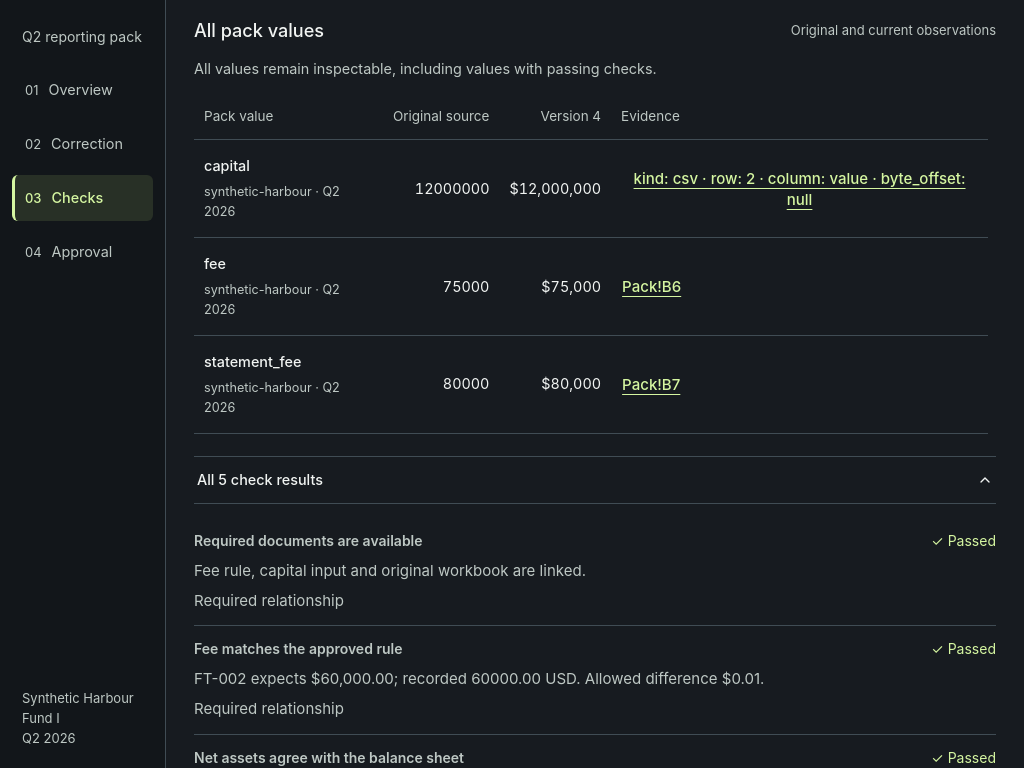
Test case: keeps exact occurrence content and citation together across evidence links and fact selection (anchor=true)
(page scrolled)
Click the button "Pack!B7" at (651, 385), box [621, 362, 681, 408]
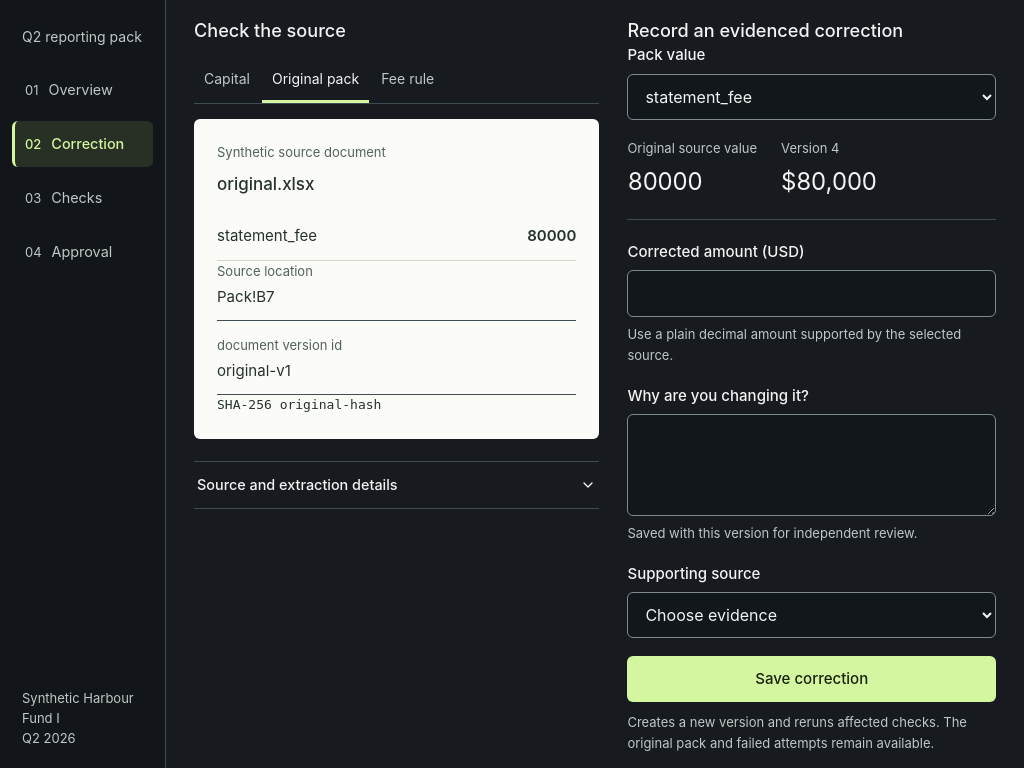
Check: the text "statement_fee" is shown, box [217, 224, 317, 248]
Check: the text "80000" in the row of "statement_fee" is shown, box [527, 226, 576, 245]
Check: the text "75000" is gone
Select "fee" in the dropdown labelled "Pack value" at (812, 96), box [627, 74, 996, 120]
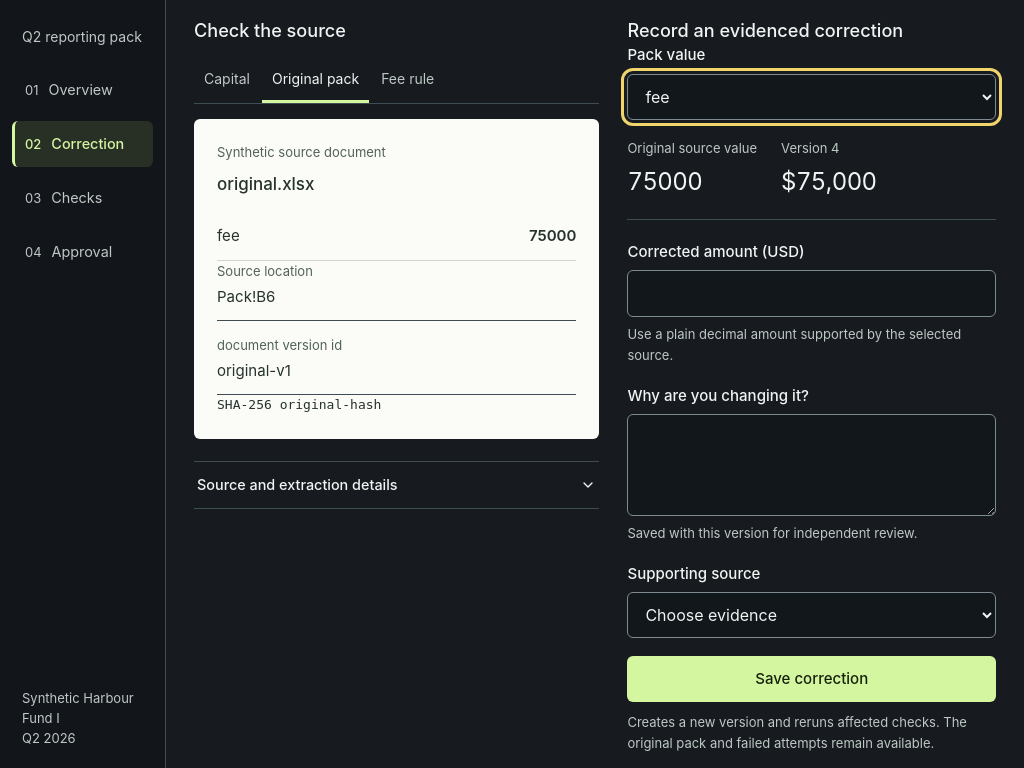
Check: the text "75000" below "original.xlsx" is shown, box [529, 226, 576, 245]
Check: the text "Pack!B6" is shown, box [217, 287, 275, 306]
Check: the text "80000" is gone
Select "capital" in the dropdown labelled "Pack value" at (812, 96), box [627, 74, 996, 120]
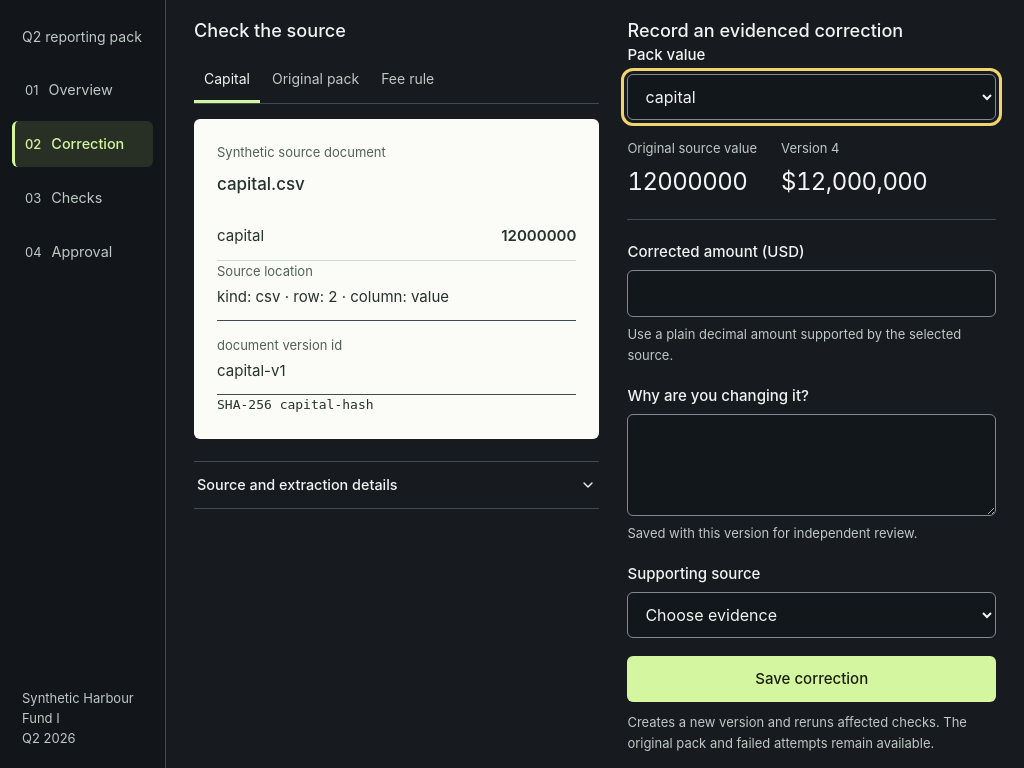
Check: the text "12000000" below "capital.csv" is shown, box [501, 226, 576, 245]
Check: the text "75000" is gone
Click the link "03 Checks" at (64, 197), box [25, 188, 102, 206]
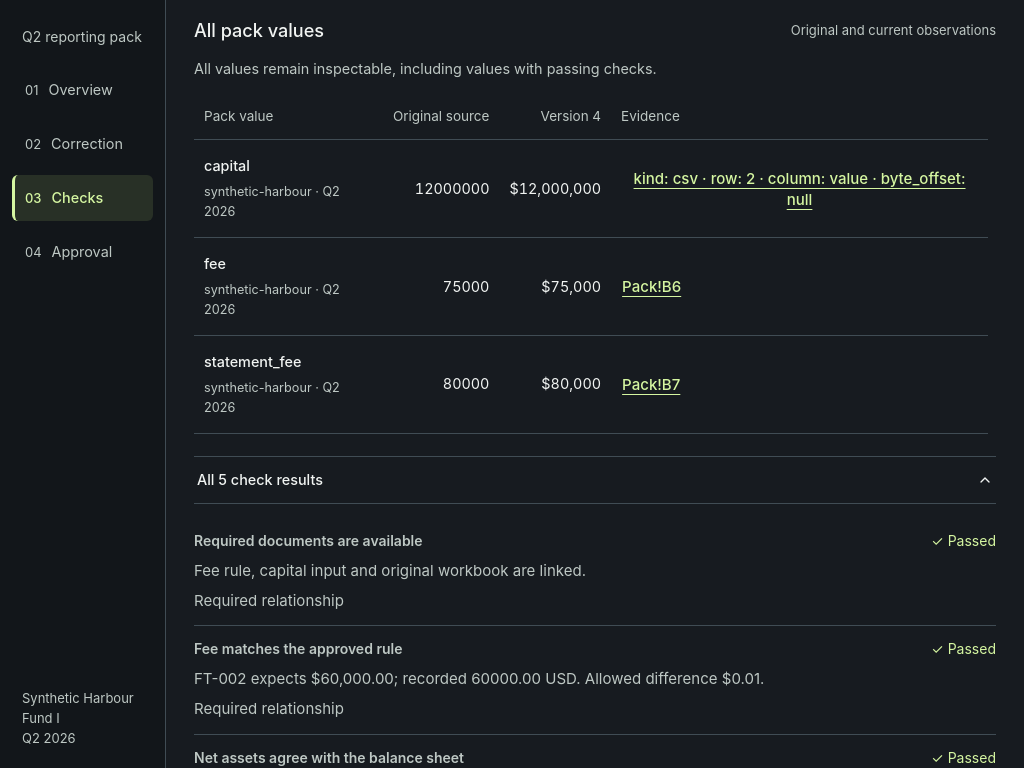
Click the button "Pack!B6" at (652, 287), box [621, 264, 682, 310]
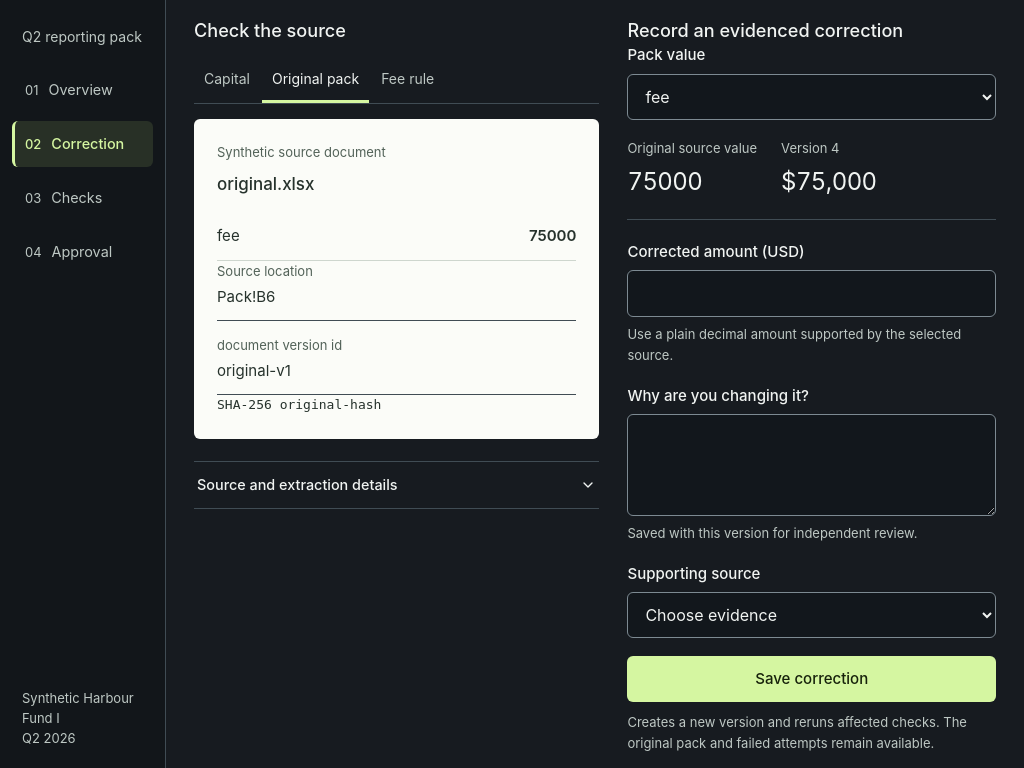
Check: the text "75000" below "original.xlsx" is shown, box [529, 226, 576, 245]
Check: the number of tabs "Original pack" is 1, box [262, 57, 369, 103]
